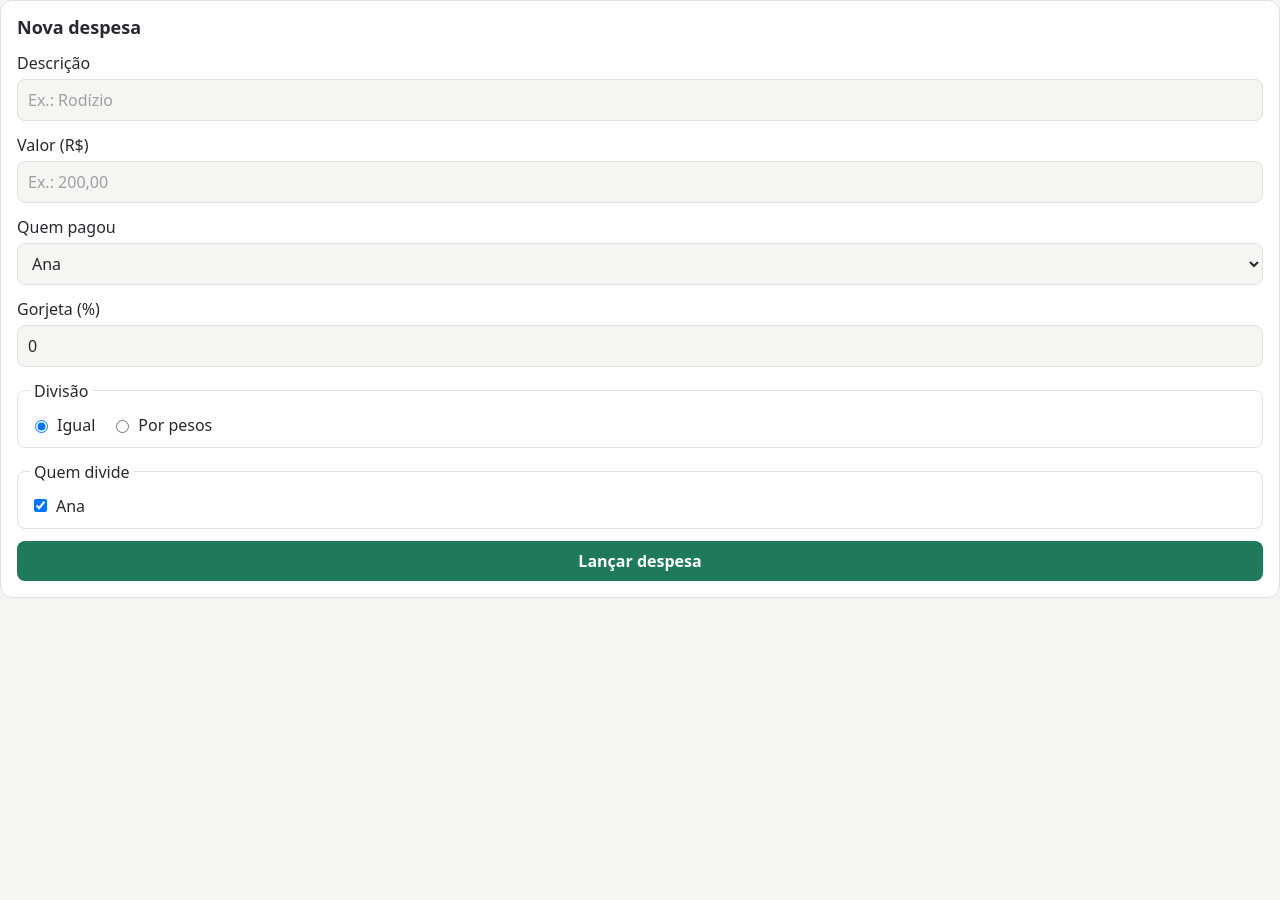
Test: DespesaForm › deve recusar com mensagem quando ninguém está marcado para dividir
Type "10,00" into the field labelled "Valor (R$)" at [640, 182], box [17,161,1263,203]
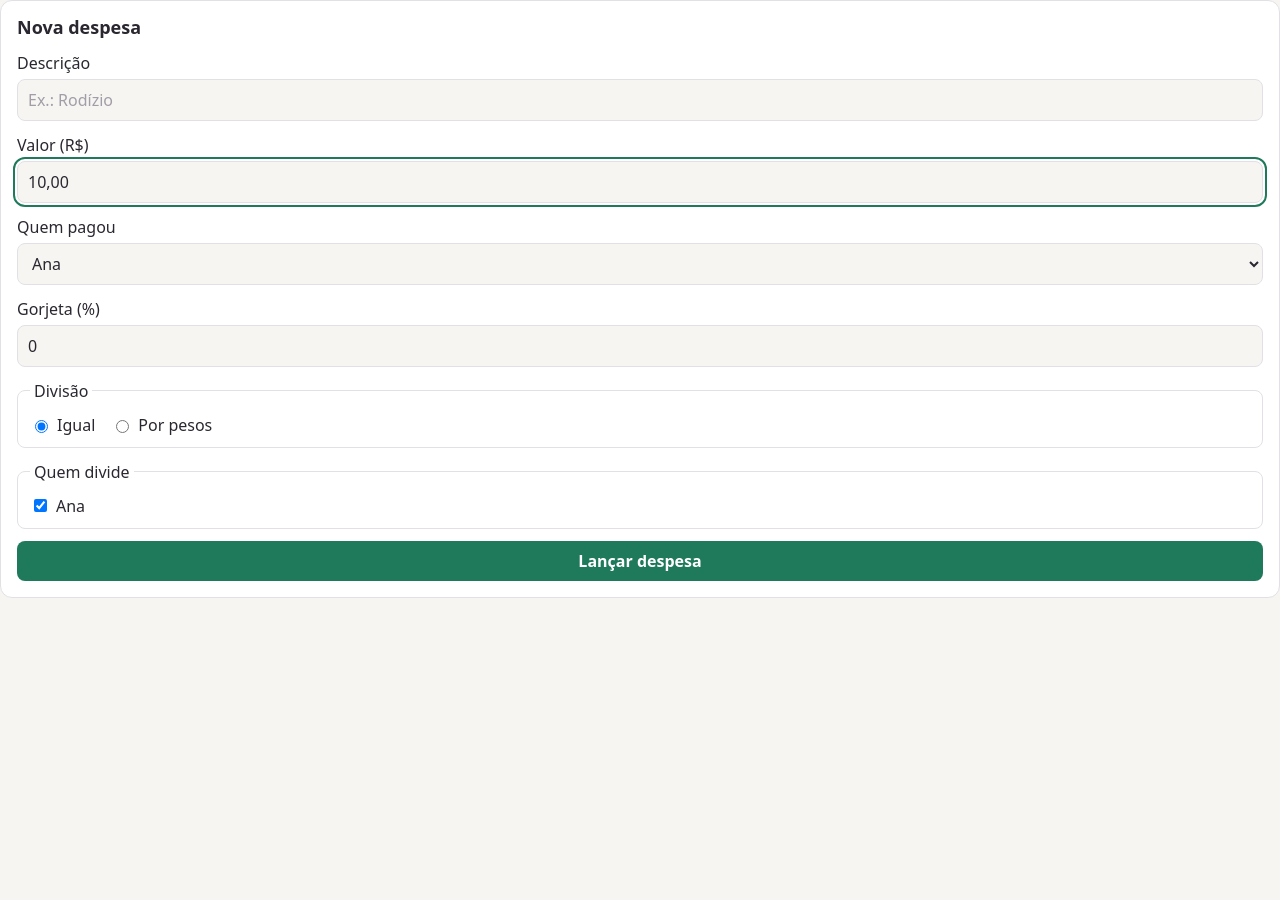
Click the checkbox labelled "Ana" at [40, 506], box [34,499,47,512]
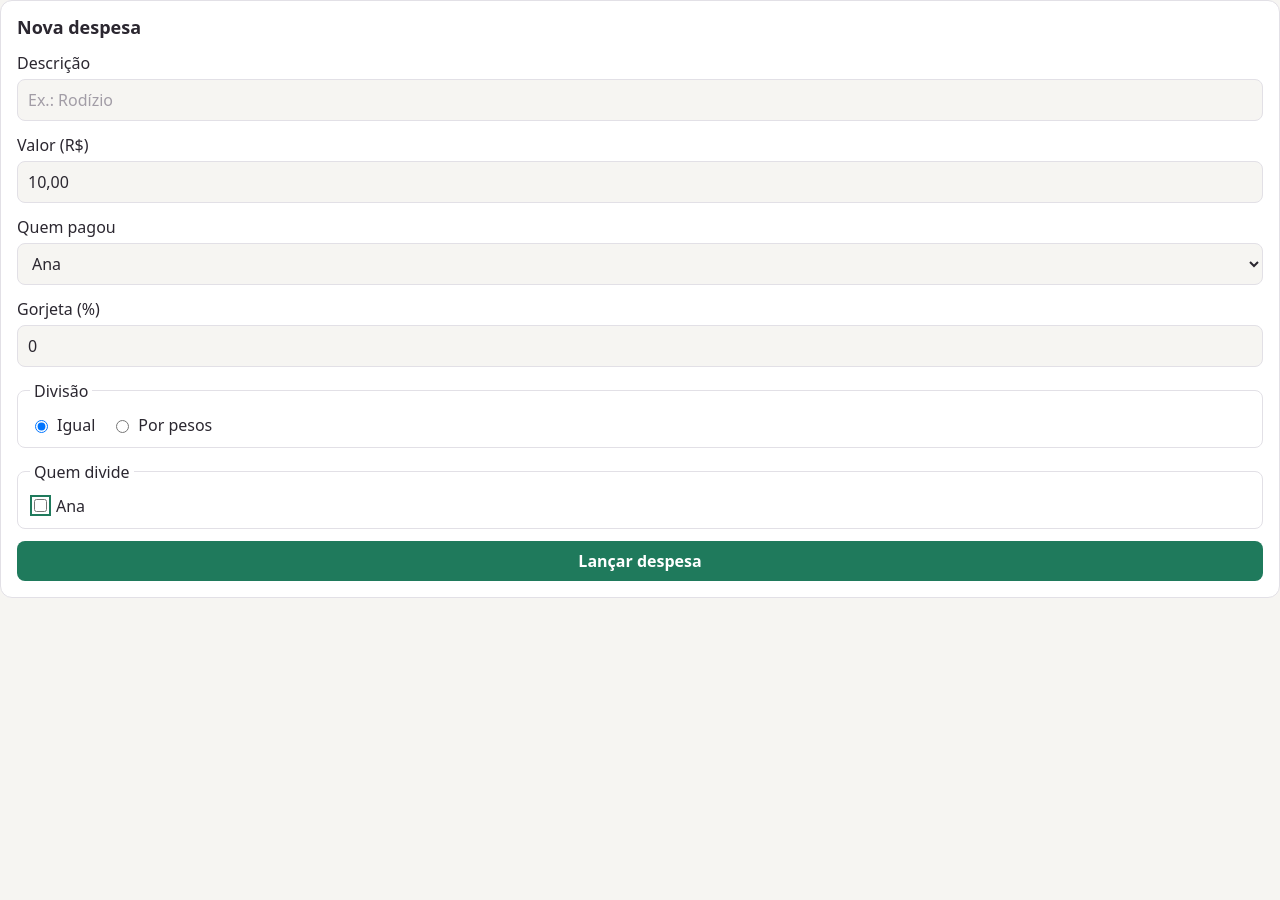
Click the button "Lançar despesa" at [640, 561], box [17,541,1263,581]
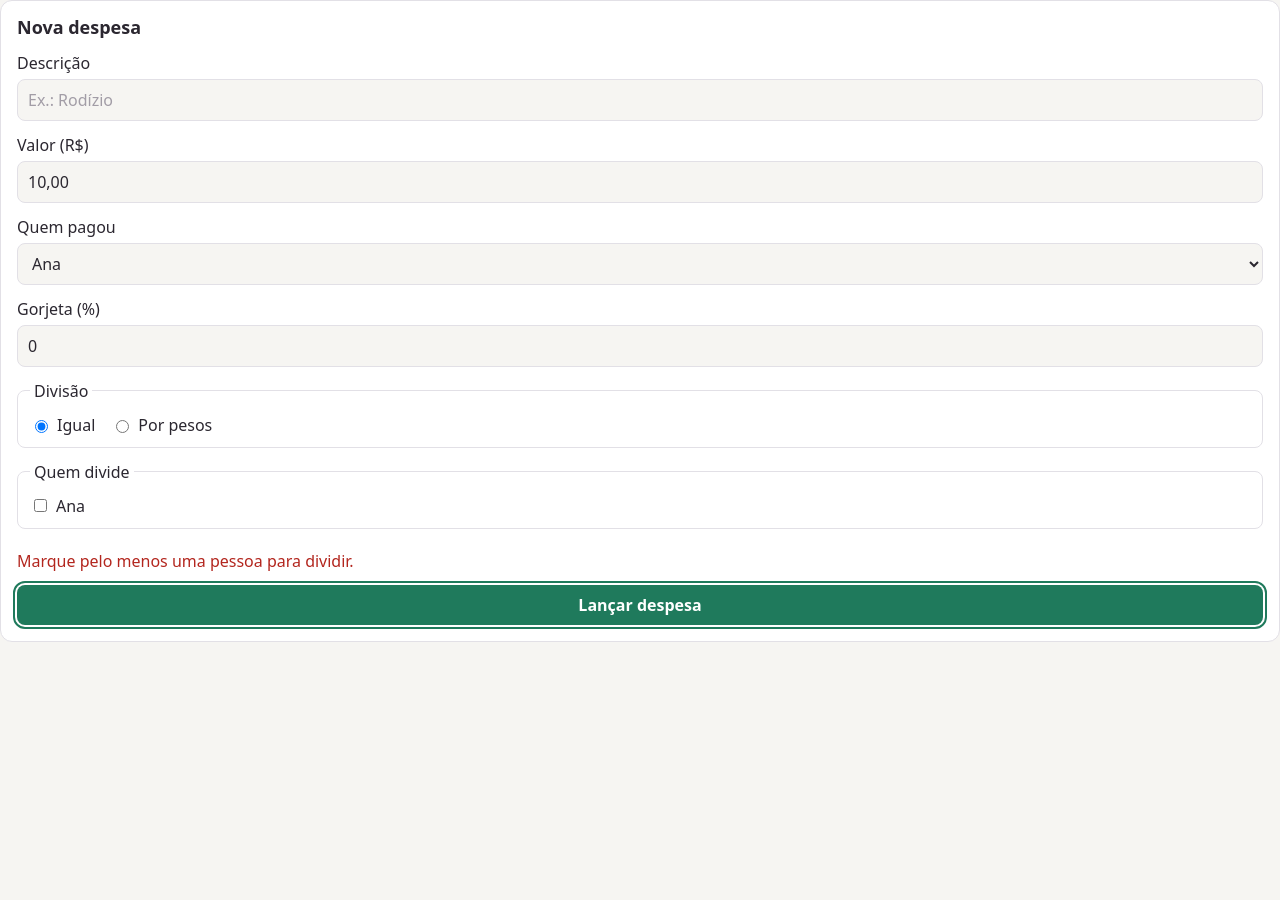
Now the message reads "Marque pelo menos uma pessoa para dividir.", box [17,550,354,572]
